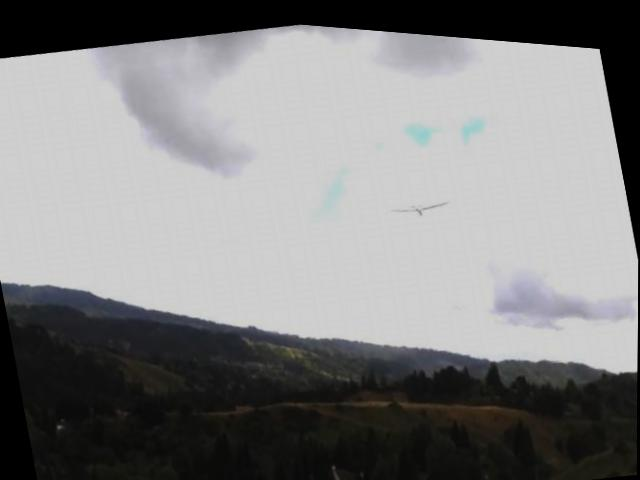iha: (386, 179, 455, 220)
